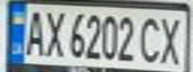0: (100, 11, 118, 62)
2: (115, 11, 139, 63), (84, 10, 103, 61)
6: (63, 8, 87, 60)
A: (21, 6, 48, 56)
C: (136, 12, 163, 64)
X: (157, 12, 190, 66), (42, 7, 66, 58)
